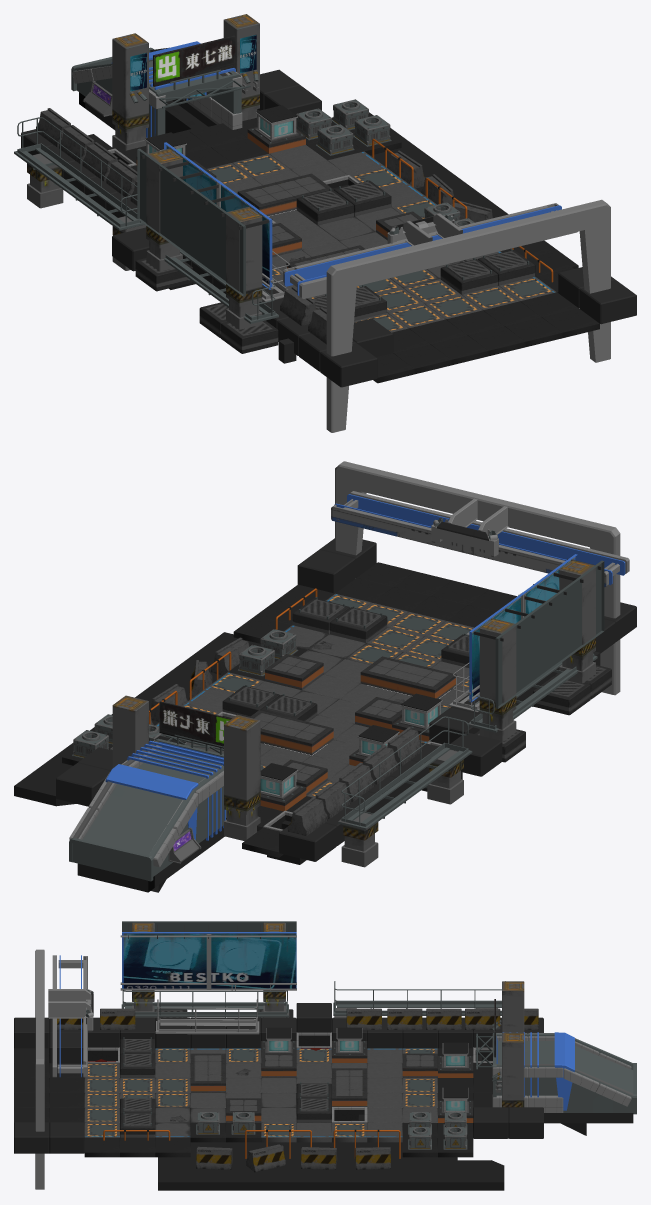
The model's file is level_hard_05-01.fbx.
The picture shows the model from 3 angles, top to bottom: view 1: azimuth 30°, elevation 25°; view 2: azimuth 150°, elevation 25°; view 3: azimuth 270°, elevation 25°; orthographic projection. The views are drawn at different scales.
Visible parts, largest first — view 1: S_outworld_guanggaopai, S_outworld_cube67, S_outworld_station, S_outworld_structure_sign, S_outworld_parts28, S_outworld_parts56, S_outworld_cube278, S_outworld_cube41, S_outworld_cube455, S_outworld_cube454, S_outworld_parts48, S_outworld_parts26 (+56 smaller); view 2: S_outworld_station, S_outworld_guanggaopai, S_outworld_structure_sign, S_outworld_cube67, S_outworld_parts56, S_outworld_parts28, S_outworld_cube41, S_outworld_parts48, S_outworld_cube278, S_outworld_cube426, S_outworld_cube453, S_outworld_cube450 (+54 smaller); view 3: S_outworld_guanggaopai, S_outworld_cube41, S_outworld_station, S_outworld_structure_sign, S_outworld_parts26, S_outworld_cube67, S_outworld_parts28, S_outworld_parts48, S_outworld_parts0, S_outworld_parts56, S_outworld_cube453, S_outworld_cube426 (+92 smaller).
Boxes of the visible parts, bbox=[...] form: S_outworld_guanggaopai: bbox=[137, 142, 275, 329]; S_outworld_cube67: bbox=[326, 199, 610, 432]; S_outworld_station: bbox=[71, 41, 242, 137]; S_outworld_structure_sign: bbox=[283, 203, 577, 298]; S_outworld_parts28: bbox=[14, 117, 144, 230]; S_outworld_parts56: bbox=[112, 33, 148, 150]; S_outworld_cube278: bbox=[153, 35, 235, 86]; S_outworld_cube41: bbox=[368, 112, 578, 268]; S_outworld_cube455: bbox=[320, 343, 377, 387]; S_outworld_cube454: bbox=[579, 280, 636, 324]; S_outworld_parts48: bbox=[223, 14, 259, 120]; S_outworld_parts26: bbox=[163, 250, 278, 323]; S_outworld_station: bbox=[69, 738, 226, 892]; S_outworld_guanggaopai: bbox=[466, 554, 604, 741]; S_outworld_structure_sign: bbox=[331, 491, 629, 587]; S_outworld_cube67: bbox=[335, 461, 620, 695]; S_outworld_parts56: bbox=[224, 714, 260, 840]; S_outworld_parts28: bbox=[338, 716, 472, 830]; S_outworld_cube41: bbox=[14, 632, 261, 806]; S_outworld_parts48: bbox=[112, 695, 148, 768]; S_outworld_cube278: bbox=[159, 701, 231, 748]; S_outworld_cube426: bbox=[297, 549, 355, 593]; S_outworld_cube453: bbox=[56, 763, 110, 806]; S_outworld_cube450: bbox=[279, 823, 336, 861]; S_outworld_guanggaopai: bbox=[120, 921, 296, 1017]; S_outworld_cube41: bbox=[158, 1142, 504, 1190]; S_outworld_station: bbox=[492, 1032, 636, 1135]; S_outworld_structure_sign: bbox=[48, 955, 93, 1077]; S_outworld_parts26: bbox=[121, 989, 288, 1018]; S_outworld_cube67: bbox=[35, 949, 44, 1189]; S_outworld_parts28: bbox=[333, 981, 505, 1015]; S_outworld_parts48: bbox=[502, 1032, 524, 1107]; S_outworld_parts0: bbox=[155, 999, 259, 1034]; S_outworld_parts56: bbox=[502, 981, 524, 1032]; S_outworld_cube453: bbox=[508, 1107, 543, 1138]; S_outworld_cube426: bbox=[49, 1122, 84, 1153].
Bounding box in the file's own units: 9.77 × 4.56 × 17.64.
